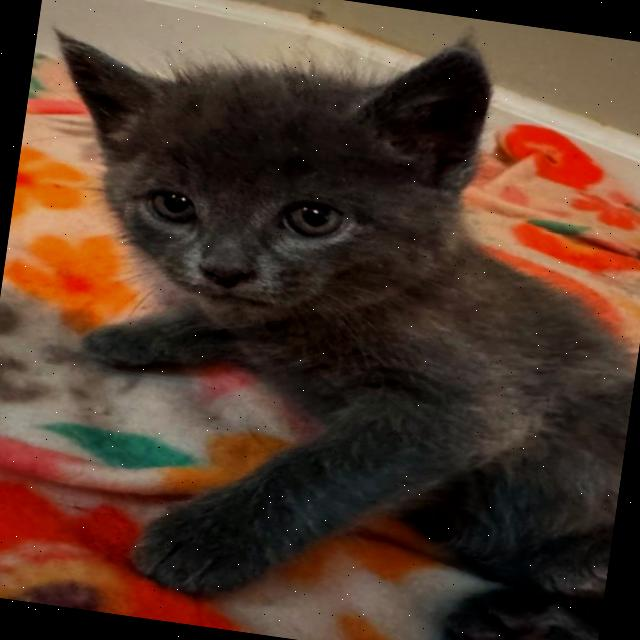russian_blue_cat: (11, 0, 537, 373)
